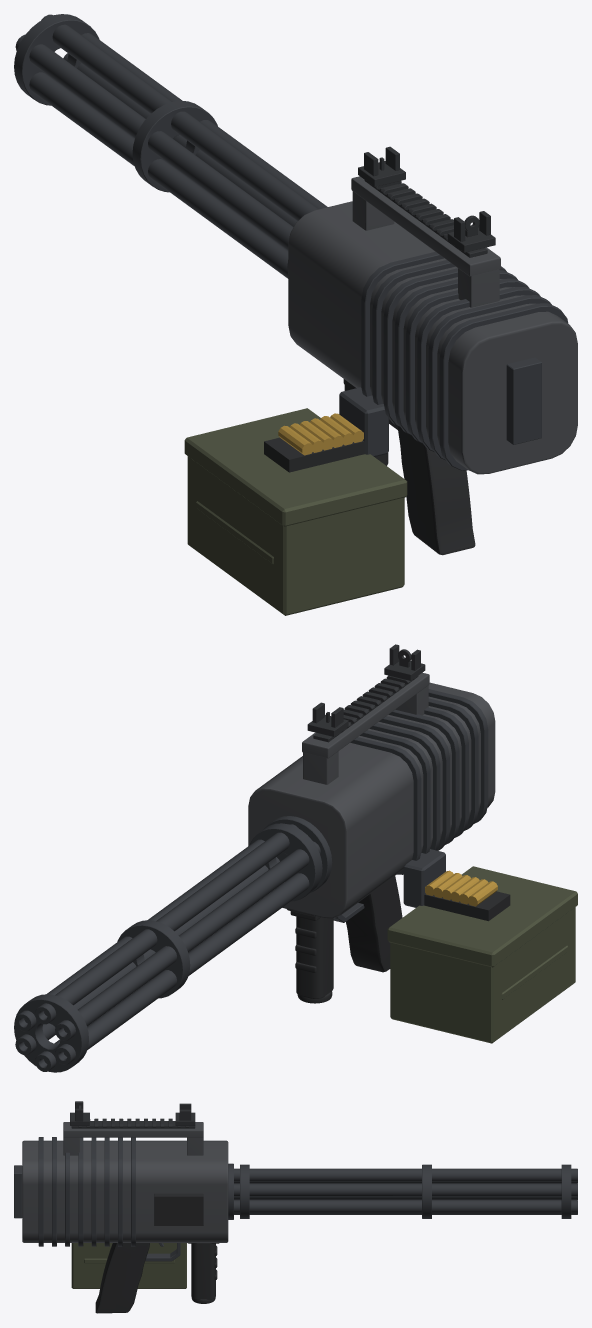
File: wpn_cyclone_rotary.glb
The picture shows the model from 3 angles, top to bottom: view 1: azimuth 30°, elevation 25°; view 2: azimuth 150°, elevation 25°; view 3: azimuth 270°, elevation 25°; orthographic projection. The views are drawn at different scales.
Visible parts, largest first — view 1: AmmoBox, Housing, BarrelCluster, HousingDetails, Grip, CarryHandle, AmmoBoxBelt, IronSights, TopRail; view 2: BarrelCluster, AmmoBox, Housing, HousingDetails, CarryHandle, Grip, FrontHandle, AmmoBoxBelt, IronSights, TopRail; view 3: BarrelCluster, Housing, HousingDetails, AmmoBox, Grip, CarryHandle, FrontHandle, TopRail, IronSights, TriggerGroup.
Part boxes in pixels (x1,y1,x2,y2): AmmoBox: (184, 387, 407, 615); Housing: (288, 201, 577, 474); BarrelCluster: (14, 14, 327, 278); HousingDetails: (361, 251, 568, 470); Grip: (397, 426, 475, 555); CarryHandle: (351, 176, 500, 307); AmmoBoxBelt: (264, 413, 364, 472); IronSights: (358, 146, 495, 252); TopRail: (364, 180, 487, 257); BarrelCluster: (14, 823, 322, 1072); AmmoBox: (387, 849, 577, 1043); Housing: (248, 682, 495, 918); HousingDetails: (264, 689, 488, 892); CarryHandle: (302, 672, 429, 784); Grip: (346, 876, 402, 972); FrontHandle: (290, 911, 333, 1003); AmmoBoxBelt: (424, 870, 510, 921); IronSights: (307, 644, 425, 736); TopRail: (313, 675, 418, 742); BarrelCluster: (234, 1164, 577, 1218); Housing: (22, 1140, 228, 1242); HousingDetails: (14, 1137, 233, 1246); AmmoBox: (71, 1243, 186, 1288); Grip: (95, 1243, 149, 1313); CarryHandle: (63, 1122, 203, 1155); FrontHandle: (188, 1243, 219, 1303); TopRail: (71, 1118, 195, 1128); IronSights: (70, 1101, 195, 1125); TriggerGroup: (145, 1243, 180, 1261).
Bounding box in the file's own units: 0.2175 × 0.2742 × 0.684.
